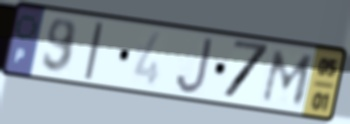4: (130, 30, 165, 89)
7: (223, 37, 273, 104)
9: (40, 16, 78, 76)
I: (81, 19, 106, 82)
J: (174, 35, 216, 96)
M: (259, 47, 318, 108)
